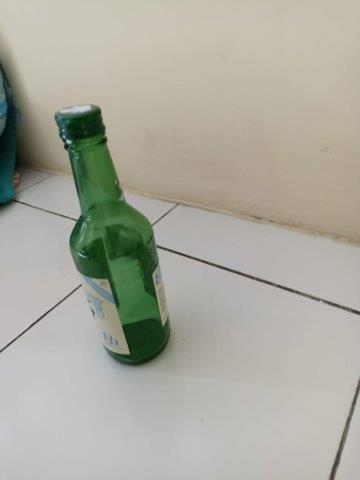botolkaca: (53, 105, 172, 367)
